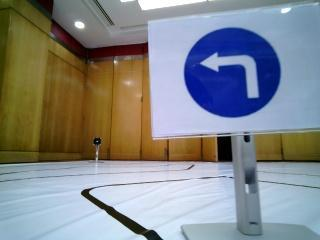left: (156, 19, 320, 118)
